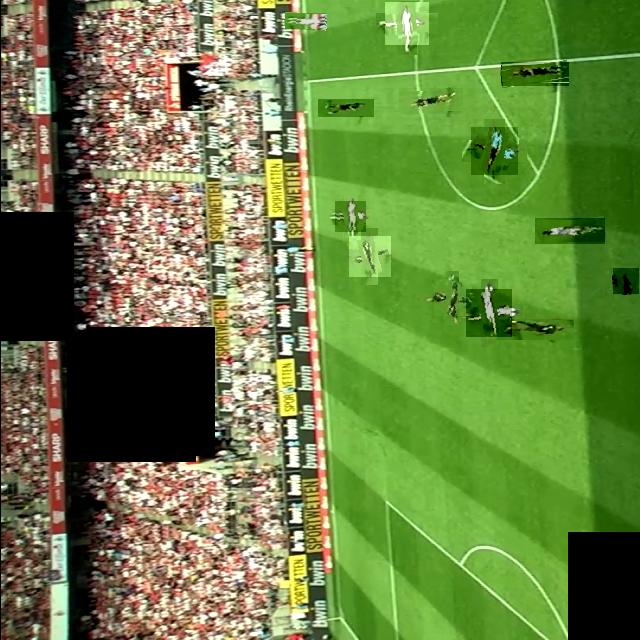referee: (470, 127, 517, 175)
soccer-player: (465, 289, 511, 337), (384, 2, 428, 45), (534, 218, 604, 244), (348, 236, 390, 277), (398, 88, 462, 114), (500, 62, 568, 86), (496, 319, 573, 340), (433, 279, 469, 316), (317, 99, 373, 117), (334, 201, 365, 232), (284, 13, 326, 30), (612, 268, 638, 294)
